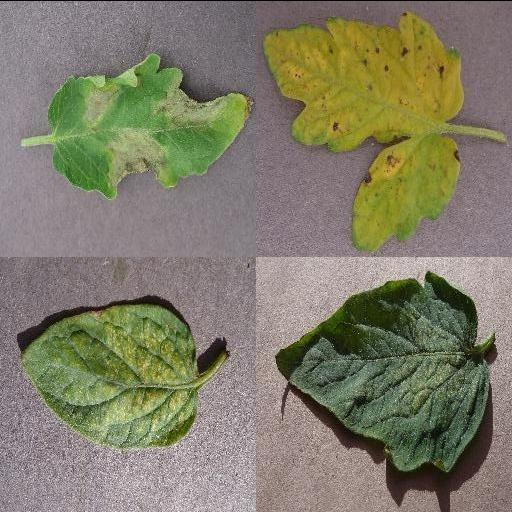Late Blight: (48, 52, 256, 198)
Septoria: (262, 10, 466, 250)
Spider Mites: (274, 269, 492, 473), (20, 302, 198, 450)
